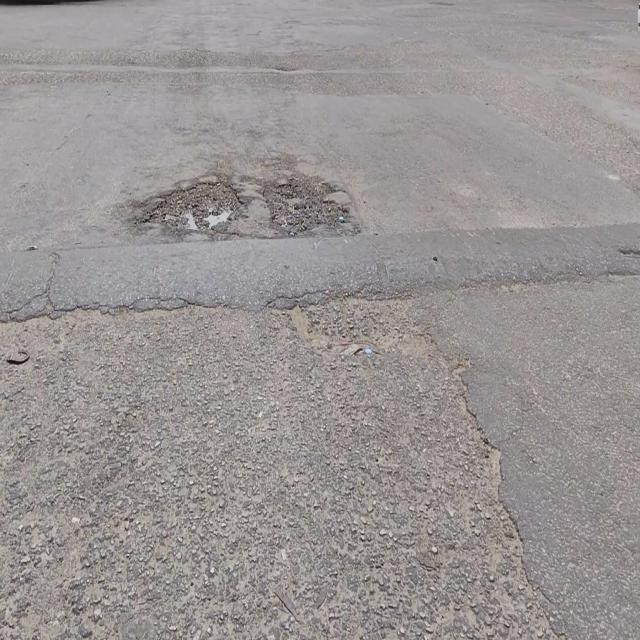Potholes: (138, 177, 241, 241), (266, 182, 346, 234)
